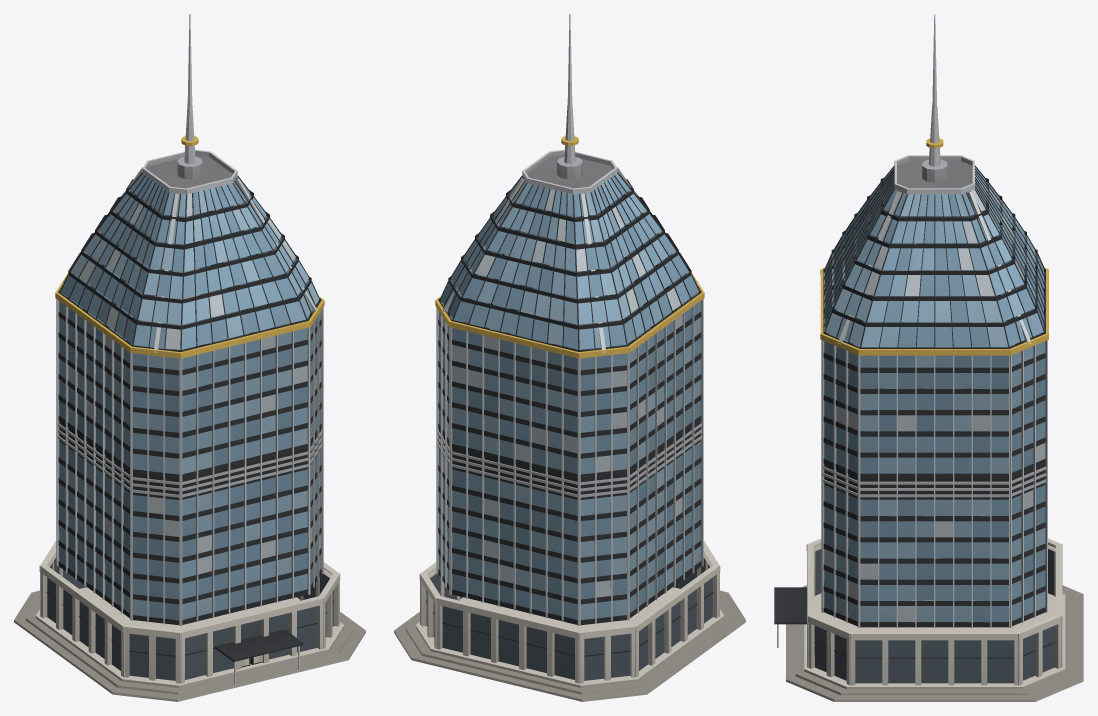
The picture shows the model from 3 angles, left to right: view 1: azimuth 30°, elevation 25°; view 2: azimuth 150°, elevation 25°; view 3: azimuth 270°, elevation 25°; orthographic projection.
Visible parts, largest first — view 1: t0; view 2: t0; view 3: t0.
Boxes of the visible parts, left/top/right/bottom form: t0: left=14, top=14, right=365, bottom=701; t0: left=394, top=14, right=745, bottom=701; t0: left=774, top=14, right=1083, bottom=701.
Bounding box in the file's own units: 49.65 × 115 × 51.58.
